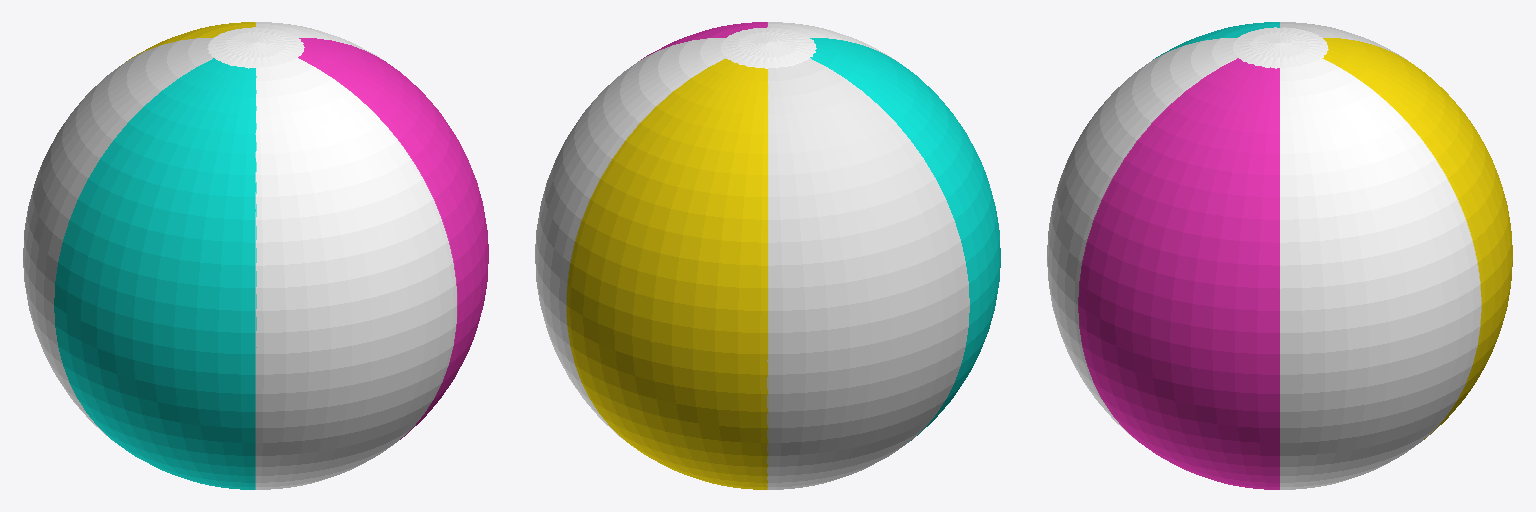
3 renders of one model, left to right at view 1: azimuth 30°, elevation 25°; view 2: azimuth 150°, elevation 25°; view 3: azimuth 270°, elevation 25°, orthographic.
Parts seen in each view (by area): view 1: Sphere; view 2: Sphere; view 3: Sphere.
Boxes of the visible parts, x1,y1,x2,y2 form: Sphere: [23, 22, 488, 489]; Sphere: [535, 22, 1000, 489]; Sphere: [1047, 22, 1512, 489].
Size of the model in its own units: 1.97 by 2 by 1.97.
1 materials, 1 textured.